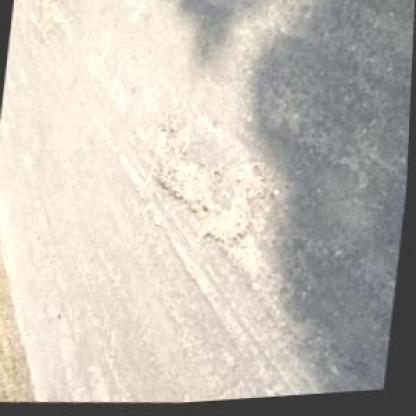pothole: (142, 122, 273, 261)
